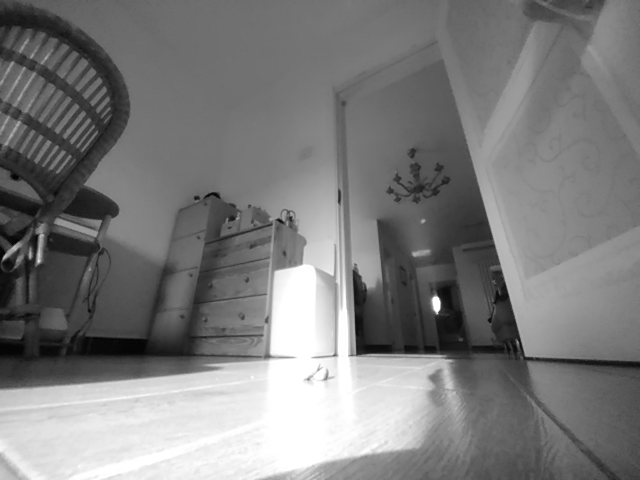pet feces: (300, 359, 329, 385)
wire: (66, 291, 96, 352)
